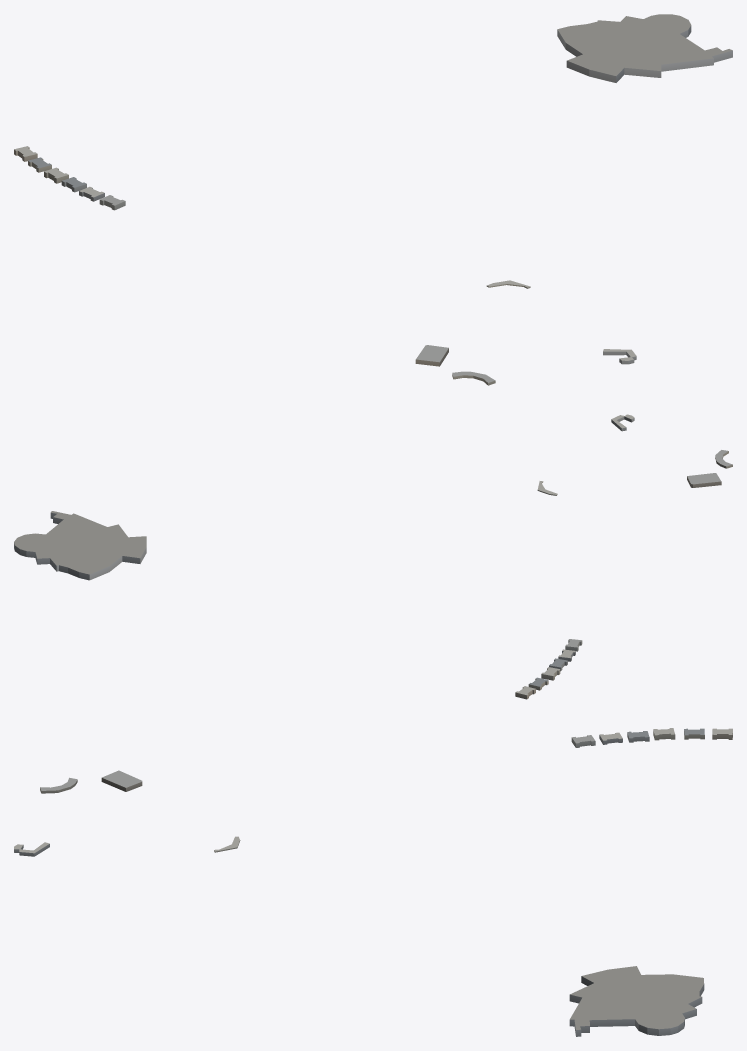
The model's file is bld_14_2.fbx.
The picture shows the model from 3 angles, top to bottom: view 1: azimuth 30°, elevation 25°; view 2: azimuth 150°, elevation 25°; view 3: azimuth 270°, elevation 25°; orthographic projection. The views are drawn at different scales.
Visible parts, largest first — view 1: bld_14_2_LOD0; view 2: bld_14_2_LOD0; view 3: bld_14_2_LOD0.
Boxes of the visible parts, x1=… form: bld_14_2_LOD0: x1=14, y1=14, x2=732, y2=385; bld_14_2_LOD0: x1=14, y1=414, x2=732, y2=699; bld_14_2_LOD0: x1=14, y1=728, x2=732, y2=1036.
Size of what is drawn, in the model's own units: 1916 by 19.99 by 1915.
